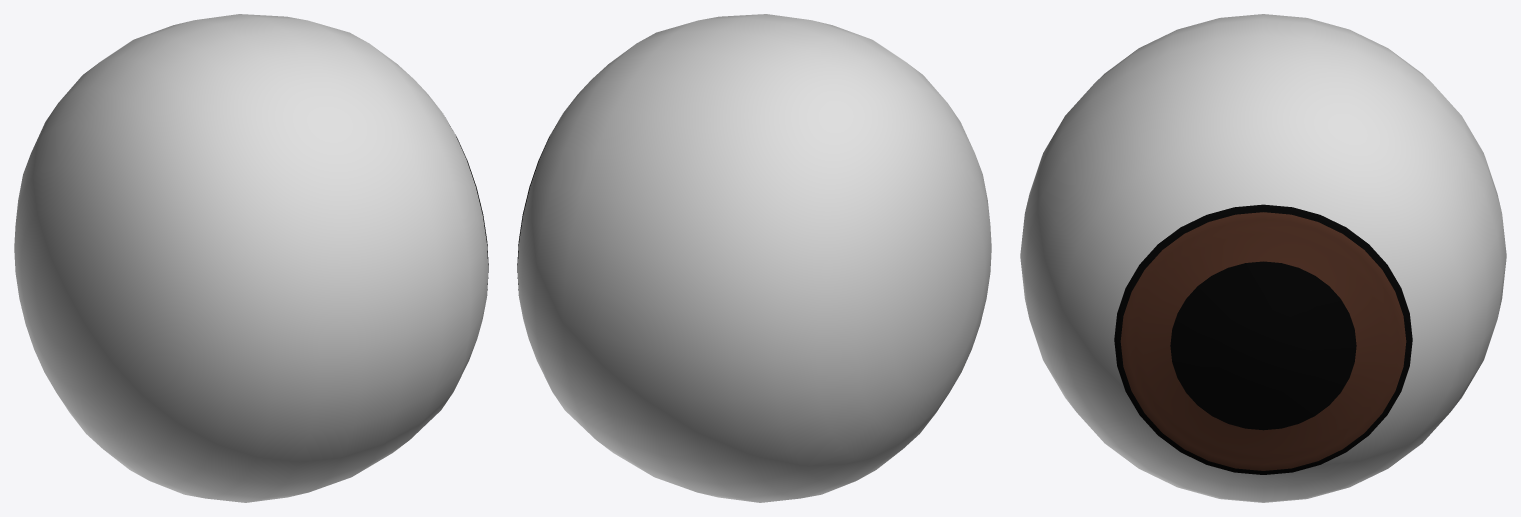
The model's file is eyeball_brown.fbx.
The picture shows the model from 3 angles, left to right: view 1: azimuth 30°, elevation 25°; view 2: azimuth 150°, elevation 25°; view 3: azimuth 270°, elevation 25°; orthographic projection.
Visible parts, largest first — view 1: Sphere; view 2: Sphere; view 3: Sphere.
Part boxes in pixels (bbox=[...]): Sphere: bbox=[14, 14, 488, 502]; Sphere: bbox=[517, 14, 991, 502]; Sphere: bbox=[1020, 14, 1506, 502].
Size of the model in its own units: 346 by 380 by 380.
